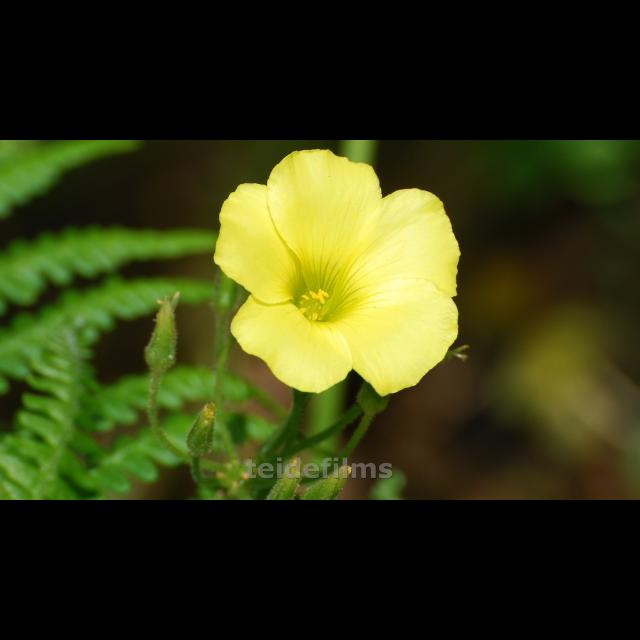Flower: (212, 148, 456, 392)
